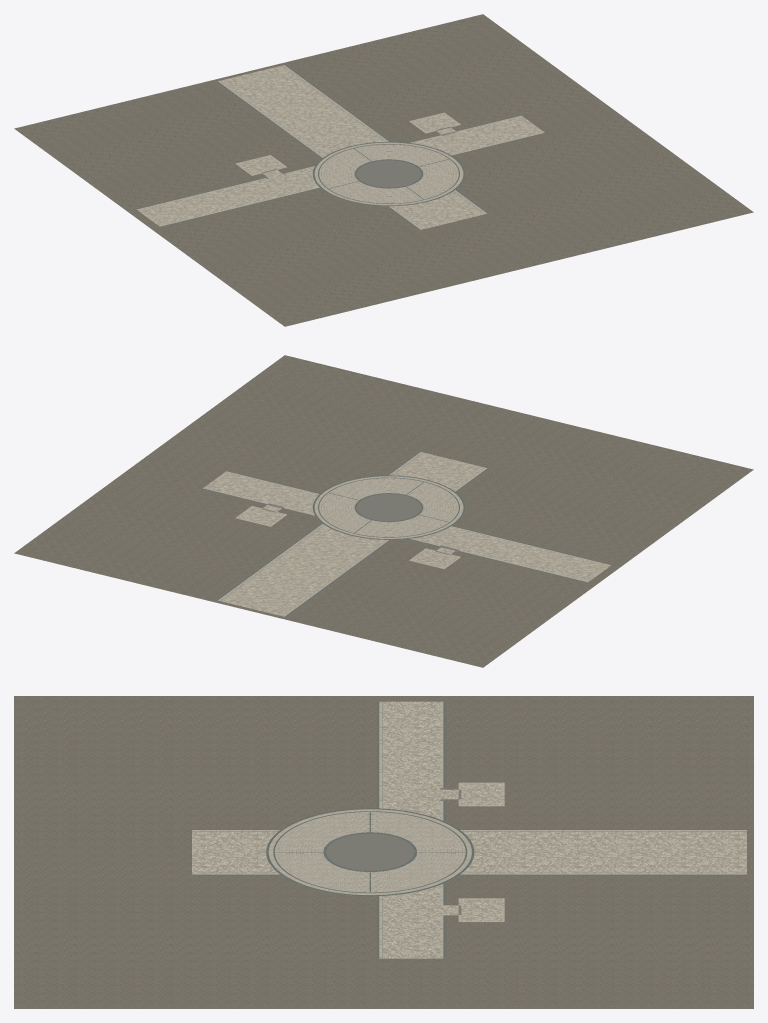
File: town-ground.glb
The picture shows the model from 3 angles, top to bottom: view 1: azimuth 30°, elevation 25°; view 2: azimuth 150°, elevation 25°; view 3: azimuth 270°, elevation 25°; orthographic projection. The views are drawn at different scales.
Parts seen in each view (by area): view 1: Ground compacted gravel, Ground fan-laid limestone, Ground dressed limestone, Ground recessed stone joints, Ground charcoal limestone edging; view 2: Ground compacted gravel, Ground fan-laid limestone, Ground dressed limestone, Ground recessed stone joints, Ground charcoal limestone edging; view 3: Ground compacted gravel, Ground fan-laid limestone, Ground dressed limestone, Ground recessed stone joints, Ground charcoal limestone edging.
Part boxes in pixels (box(x1,y1,x2,y2)): Ground compacted gravel: box(14, 14, 753, 326); Ground fan-laid limestone: box(138, 65, 543, 229); Ground dressed limestone: box(136, 65, 544, 229); Ground recessed stone joints: box(136, 66, 542, 229); Ground charcoal limestone edging: box(136, 64, 545, 229); Ground compacted gravel: box(14, 355, 753, 667); Ground fan-laid limestone: box(204, 452, 609, 616); Ground dressed limestone: box(203, 452, 610, 616); Ground recessed stone joints: box(204, 452, 611, 617); Ground charcoal limestone edging: box(202, 451, 611, 616); Ground compacted gravel: box(14, 696, 753, 1008); Ground fan-laid limestone: box(192, 701, 746, 958); Ground dressed limestone: box(192, 701, 746, 958); Ground recessed stone joints: box(192, 702, 746, 958); Ground charcoal limestone edging: box(192, 701, 746, 958).
Bounding box in the file's own units: 54 × 0.022 × 54.
Materials: 5 (3 with a texture image).
